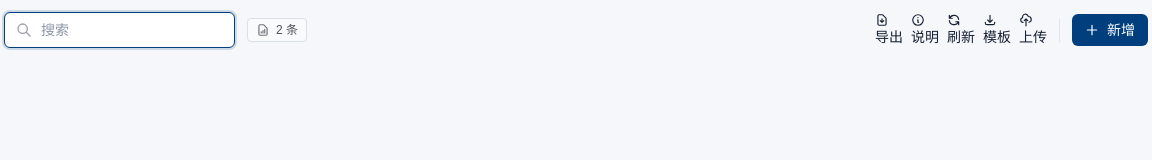
Scenario: admin grid toolbar search › retains search focus and caret when the parent updates the visible record count
Type "甲" into the field with placeholder "搜索" at (120, 30), box [4,12,235,48]
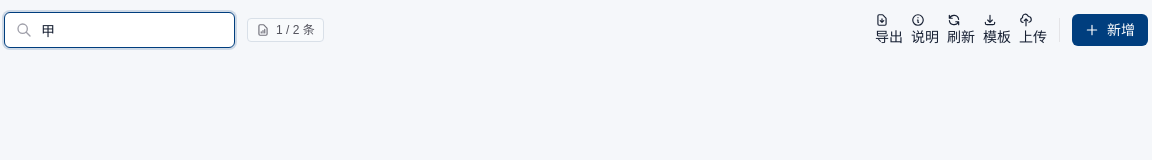
Check: the text "1 / 2 条" is shown, box [276,22,315,38]
Replace the text in the field with placeholder "搜索" with "乙" at (120, 30), box [4,12,235,48]
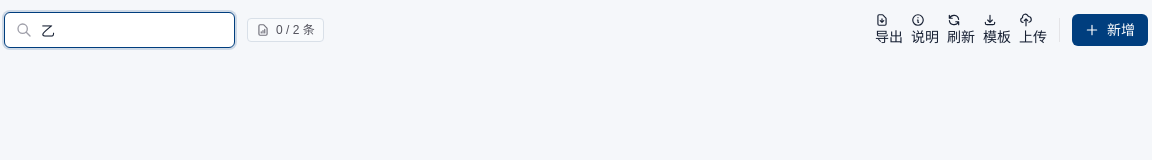
Check: the text "0 / 2 条" is shown, box [276,22,315,38]
